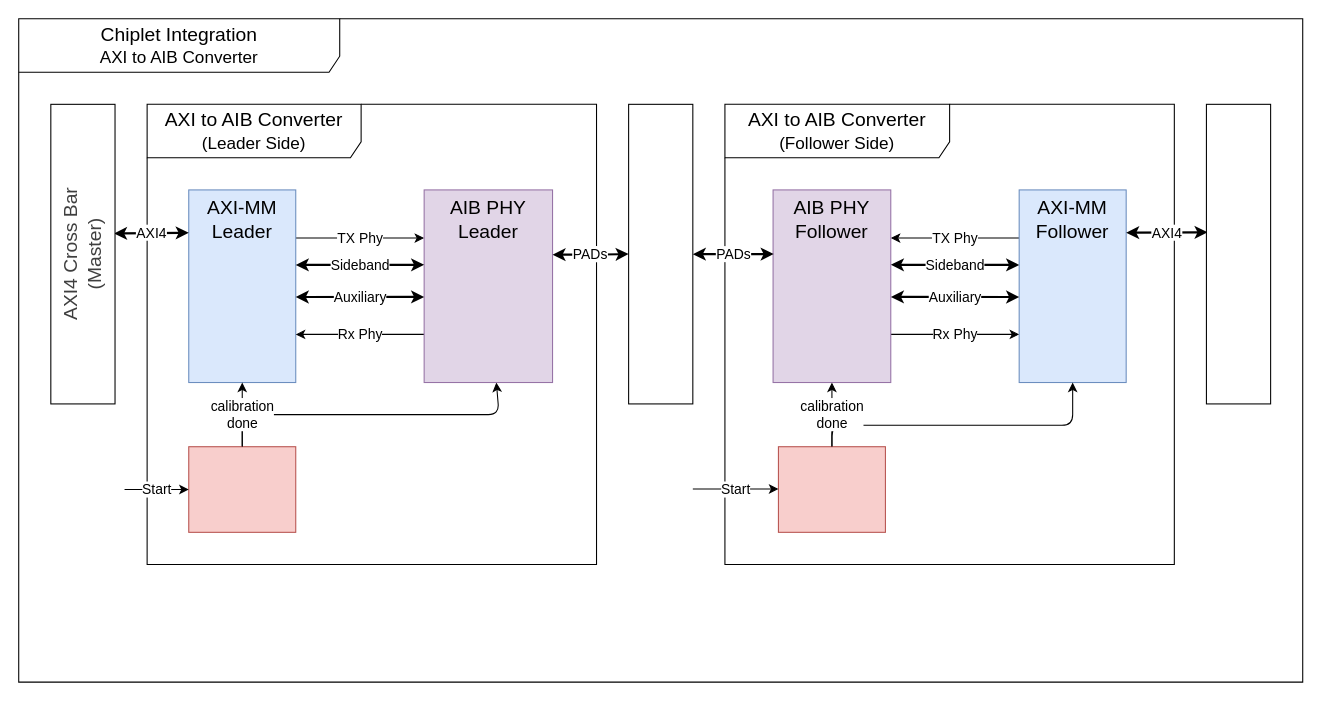
This 1321x701 diagram has some shape labels left out. The centre of each missing label's shape, as x and y in pixels:
"AXI4 Cross Bar (Follower)" belongs at point (1238, 253).
"Calibration FSM Follower" belongs at point (831, 489).
"Calibration FSM Leader" belongs at point (242, 489).
"Interposer (EMIB)" belongs at point (660, 253).
